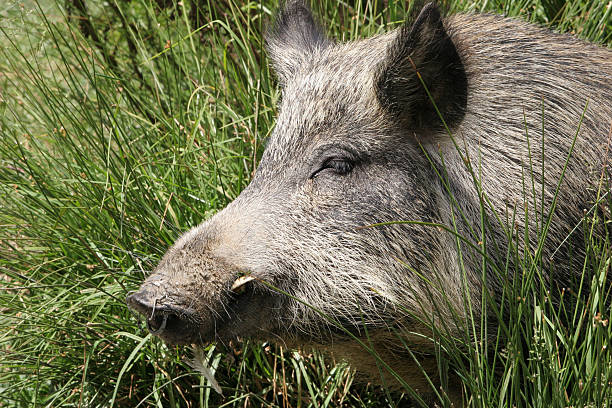pig: (135, 7, 498, 346)
